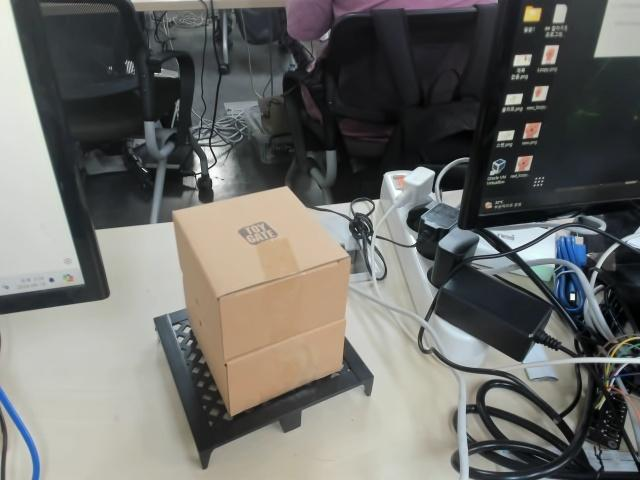box: (151, 185, 377, 471)
